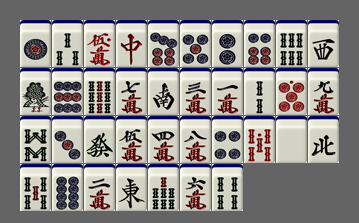0m: (84, 20, 115, 67)
0p: (276, 68, 307, 115)
0s: (244, 116, 275, 163)
1m: (212, 68, 243, 115)
1p: (20, 20, 51, 67)
1s: (20, 68, 51, 115)
1z: (116, 164, 147, 211)
2m: (84, 164, 115, 211)
2p: (212, 20, 243, 67)
2s: (244, 68, 275, 115)
2z: (148, 68, 179, 115)
3m: (180, 68, 211, 115)
3p: (52, 116, 83, 163)
3s: (52, 20, 83, 67)
3z: (308, 20, 339, 67)
4m: (148, 116, 179, 163)
4p: (212, 116, 243, 163)
4s: (212, 164, 243, 211)
4z: (308, 116, 339, 163)
5m: (116, 116, 147, 163)
5p: (180, 20, 211, 67)
5s: (20, 164, 51, 211)
5z: (276, 116, 307, 163)
6m: (180, 164, 211, 211)
6p: (244, 20, 275, 67)
6s: (276, 20, 307, 67)
6z: (84, 116, 115, 163)
7m: (116, 68, 147, 115)
7p: (148, 20, 179, 67)
7s: (148, 164, 179, 211)
7z: (116, 20, 147, 67)
8m: (180, 116, 211, 163)
8p: (52, 164, 83, 211)
8s: (20, 116, 51, 163)
9m: (308, 68, 339, 115)
9p: (52, 68, 83, 115)
9s: (84, 68, 115, 115)
